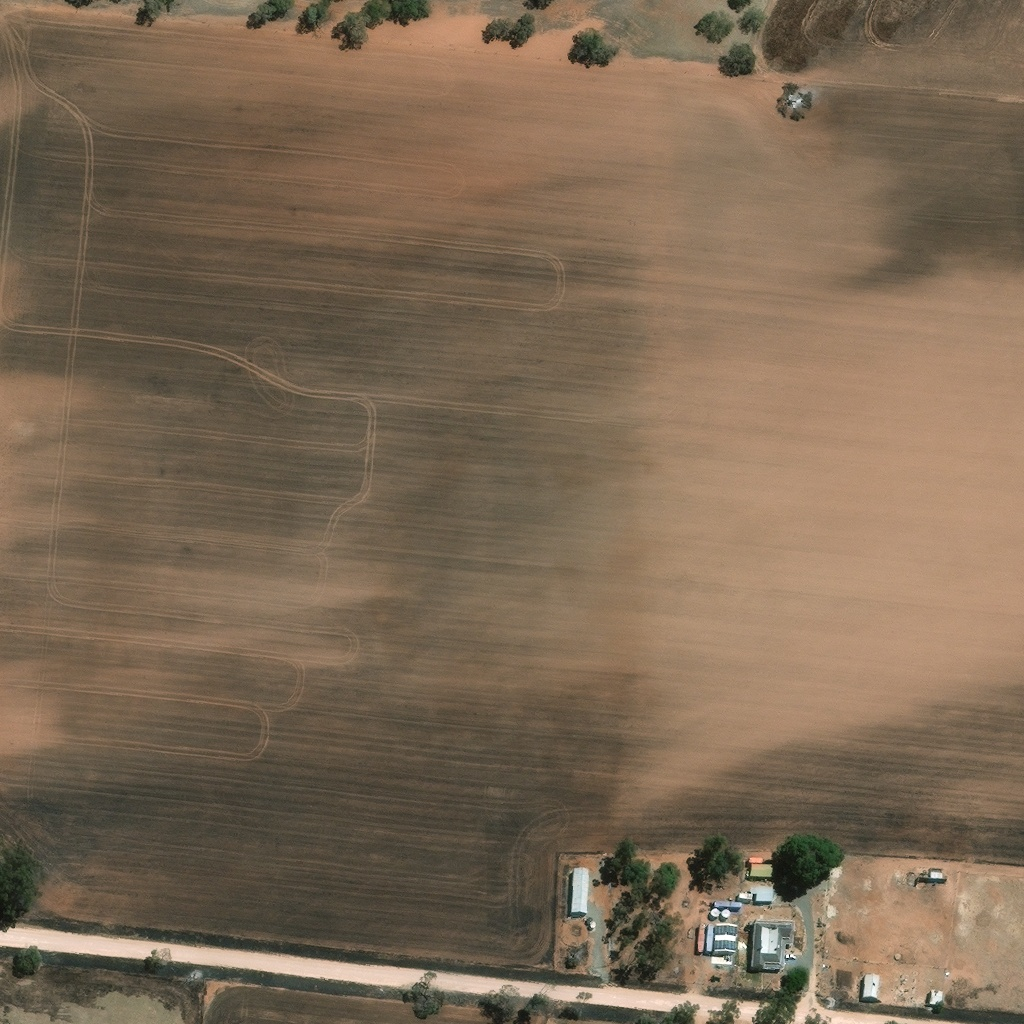0 no-damage: (748, 916, 796, 968), (571, 865, 590, 910), (863, 971, 881, 997), (749, 882, 775, 898), (750, 861, 771, 874), (930, 986, 943, 1002), (750, 854, 764, 861), (590, 916, 598, 923)
2 major-damage: (906, 863, 948, 882)
